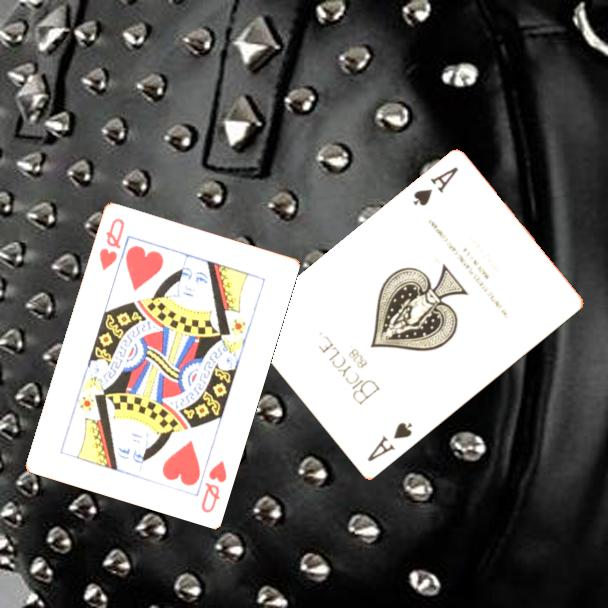h12: (197, 456, 230, 515), (95, 214, 127, 273)
s01: (363, 419, 415, 465), (409, 164, 461, 209)
